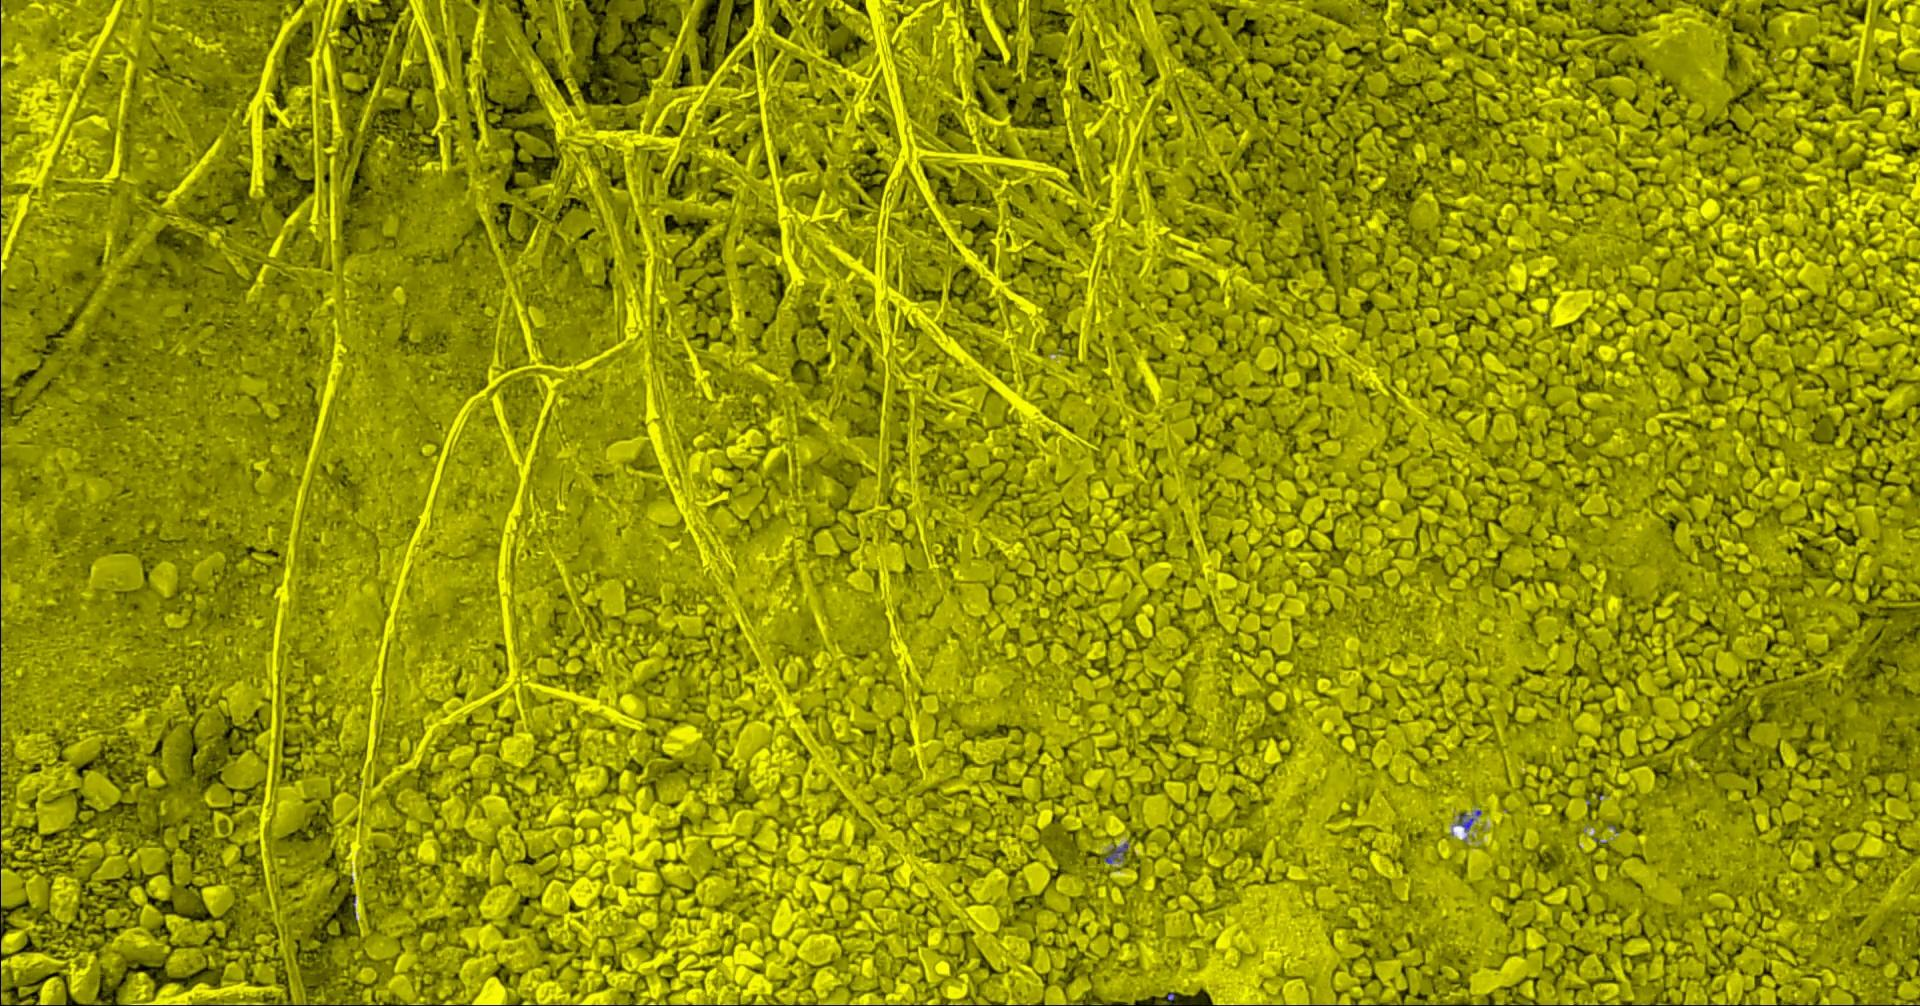ant: (1103, 843, 1128, 862), (1457, 812, 1473, 829)
